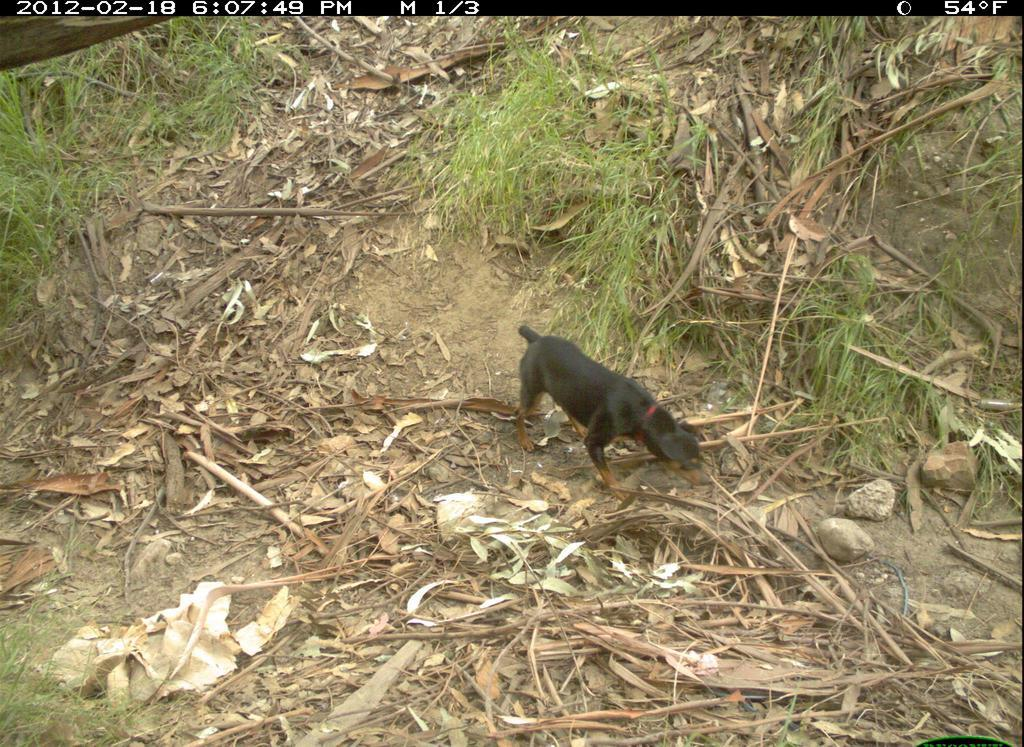dog: (502, 317, 720, 507)
